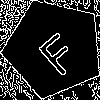F: (29, 23, 84, 79)
